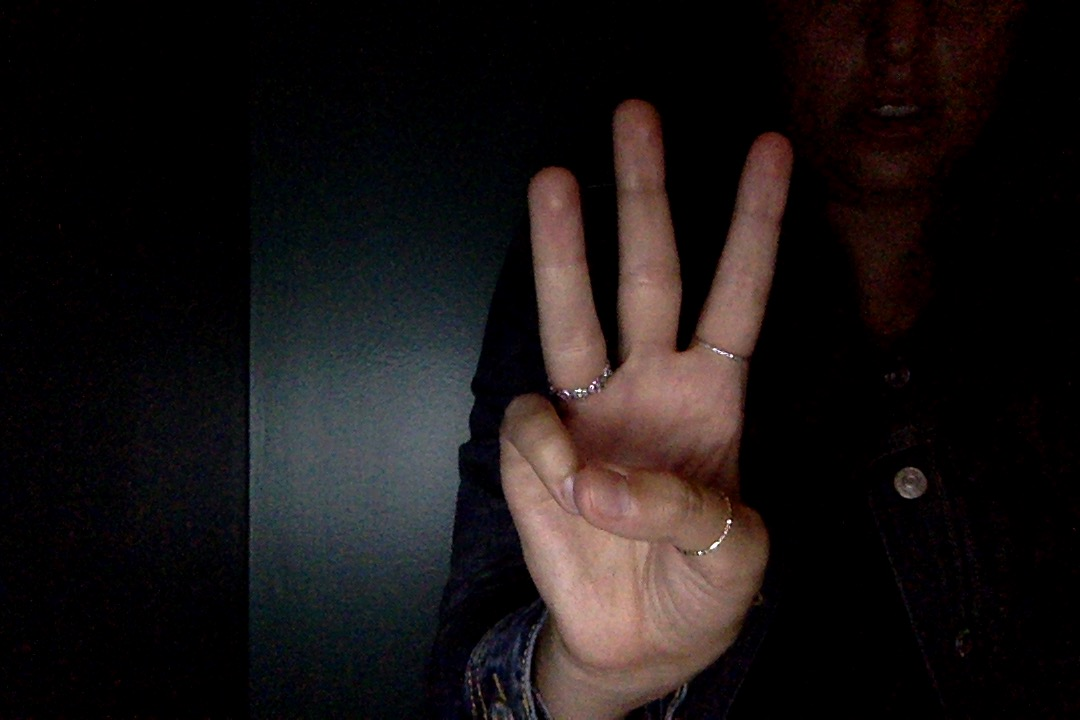w: (475, 79, 802, 720)
